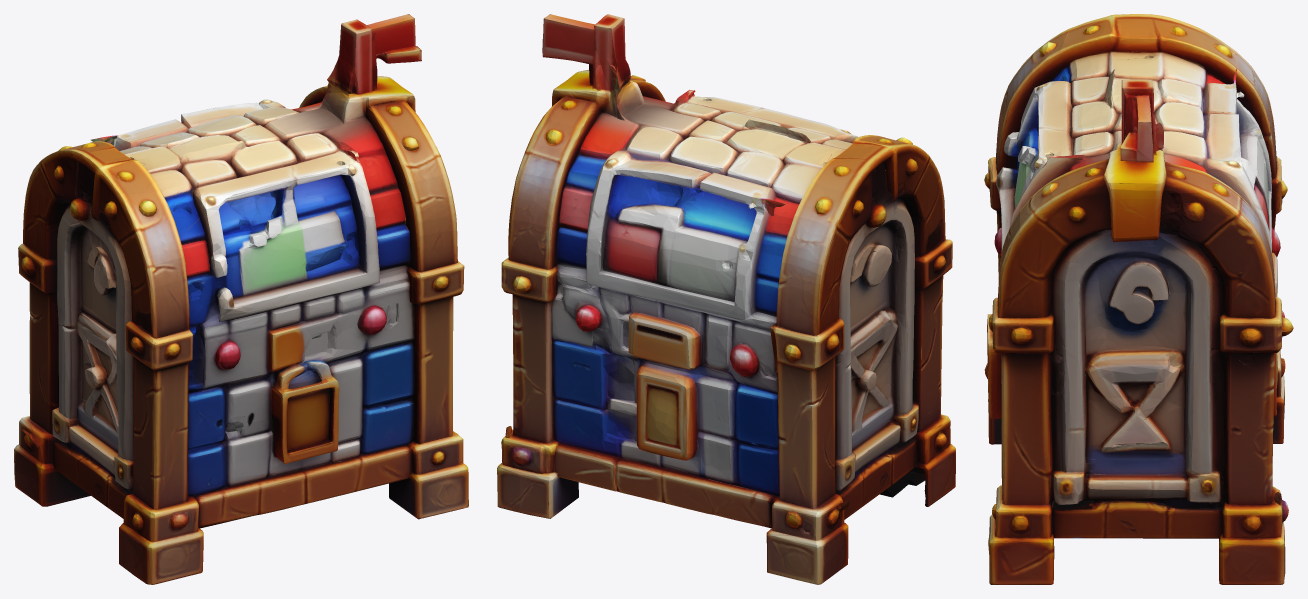
File: typical_misc_mailbox_demo_trellis.glb
3 views of the same model, side by side, from view 1: azimuth 30°, elevation 25°; view 2: azimuth 150°, elevation 25°; view 3: azimuth 270°, elevation 25° (orthographic). The views are drawn at different scales.
Parts seen in each view (by area): view 1: world; view 2: world; view 3: world.
Boxes of the visible parts, <box> form: world: <box>14,14,468,584</box>; world: <box>497,14,955,584</box>; world: <box>984,14,1293,584</box>.
Size of the model in its own units: 0.8193 by 1 by 0.5872.
1 material, 1 textured.
